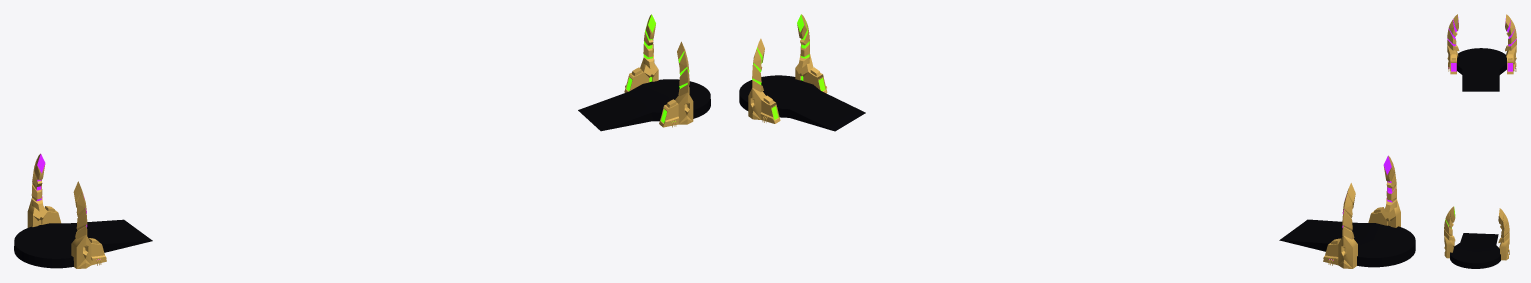
The model's file is portalFrames.glb.
3 views of the same model, side by side, from view 1: azimuth 30°, elevation 25°; view 2: azimuth 150°, elevation 25°; view 3: azimuth 270°, elevation 25° (orthographic). The views are drawn at different scales.
Parts seen in each view (by area): view 1: The Recharge Portal Frame, Scrapyard Portal Frame; view 2: The Recharge Portal Frame, Scrapyard Portal Frame; view 3: The Recharge Portal Frame, Scrapyard Portal Frame.
Boxes of the visible parts, x1,y1,x2,y2 form: The Recharge Portal Frame: (14,153,152,268); Scrapyard Portal Frame: (578,14,710,131); The Recharge Portal Frame: (1279,155,1415,268); Scrapyard Portal Frame: (739,14,865,131); The Recharge Portal Frame: (1447,14,1516,91); Scrapyard Portal Frame: (1444,206,1509,268).
Size of what is drawn, in the model's own units: 87.96 by 10.17 by 12.63.
